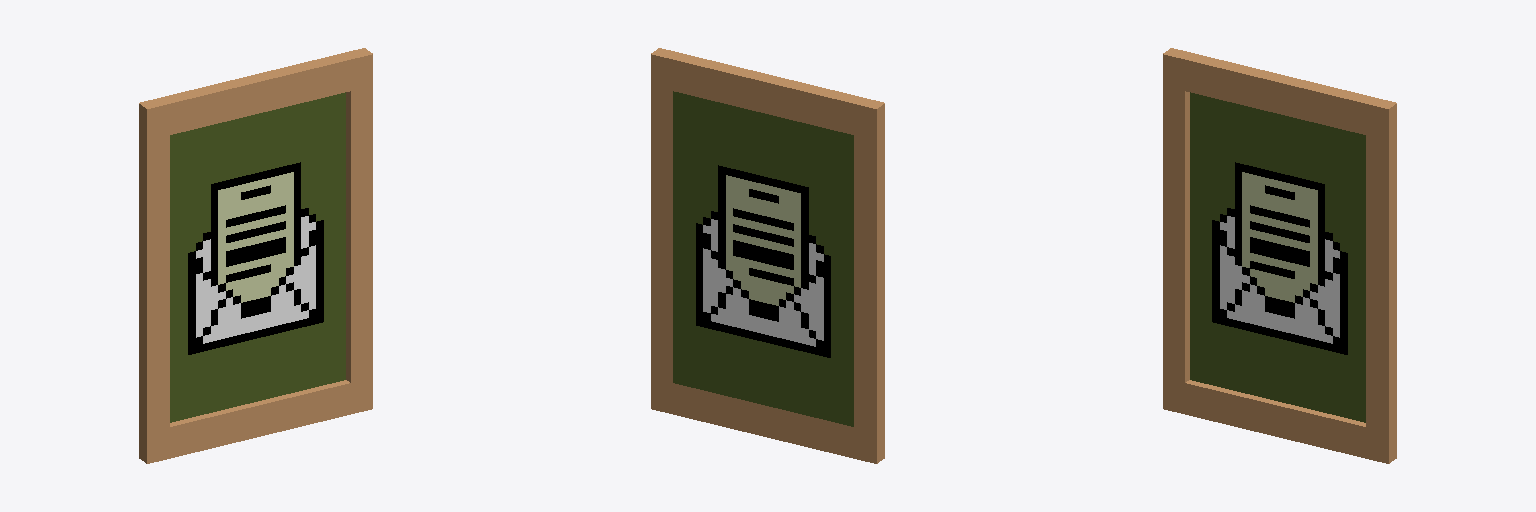
3 views of the same model, side by side, from view 1: azimuth 30°, elevation 25°; view 2: azimuth 150°, elevation 25°; view 3: azimuth 330°, elevation 25° (orthographic).
Visible parts, largest first — view 1: object 1; view 2: object 1; view 3: object 1.
Boxes of the visible parts, x1=… form: object 1: x1=139, y1=48, x2=372, y2=463; object 1: x1=651, y1=48, x2=884, y2=463; object 1: x1=1163, y1=48, x2=1396, y2=463.
Size of the model in its own units: 3 by 4.5 by 0.2.
Materials: 1 (1 with a texture image).